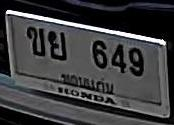number: (24, 22, 147, 78)
province: (57, 69, 115, 96)
